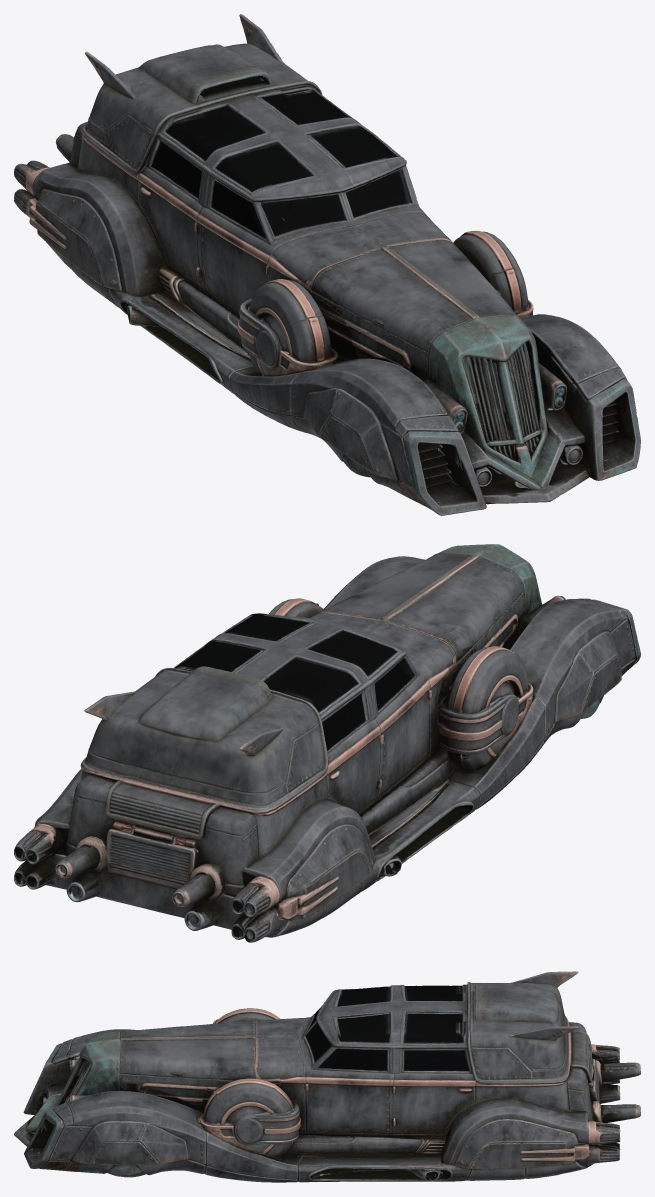
File: iron_phantom_hovercar_browser.v3.glb
3 renders of one model, top to bottom at view 1: azimuth 30°, elevation 25°; view 2: azimuth 150°, elevation 25°; view 3: azimuth 270°, elevation 25°, orthographic. The views are drawn at different scales.
Visible parts, largest first — view 1: iron_phantom_hovercar; view 2: iron_phantom_hovercar; view 3: iron_phantom_hovercar.
Part boxes in pixels (x1,y1,x2,y2): iron_phantom_hovercar: (14,14,640,515); iron_phantom_hovercar: (14,544,640,942); iron_phantom_hovercar: (14,971,640,1182).
Size of the model in its own units: 3.1 by 2.19 by 8.41.
Materials: 1 (1 with a texture image).
